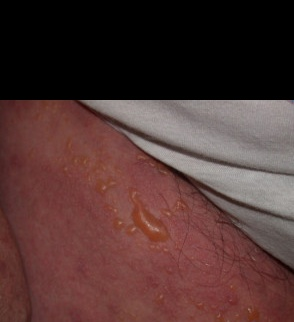SJS-TEN: (0, 44, 294, 322)
